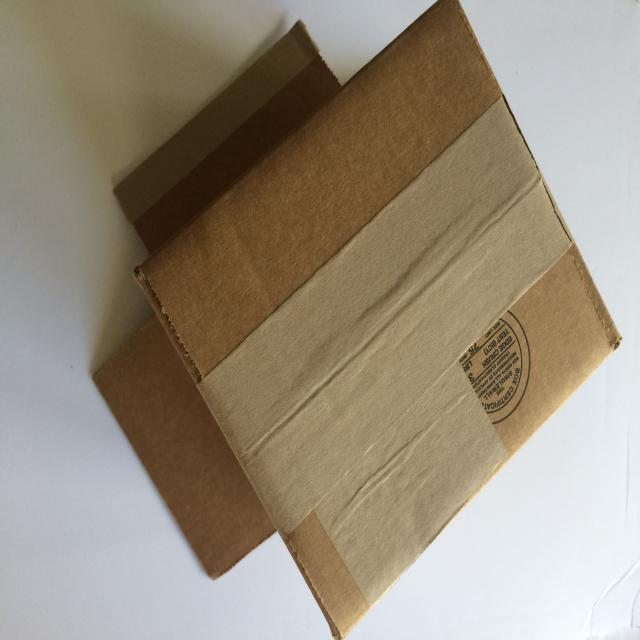Cardboard: (98, 0, 628, 640)
